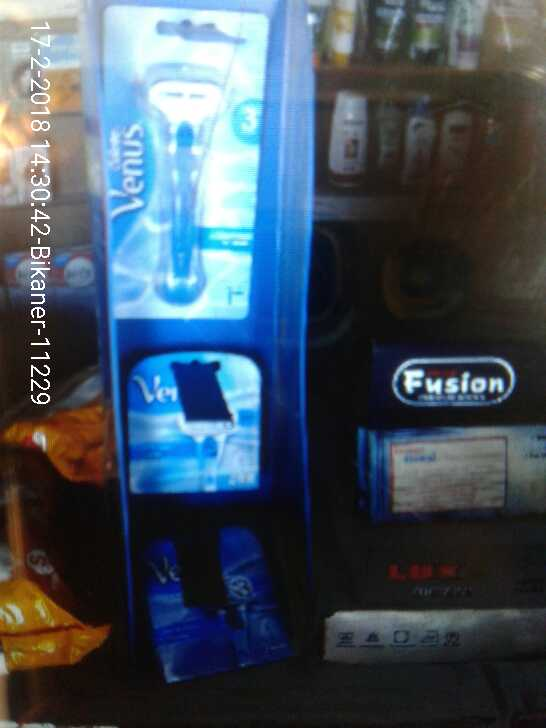venus: (96, 6, 262, 331), (138, 532, 298, 680), (127, 357, 262, 504)
